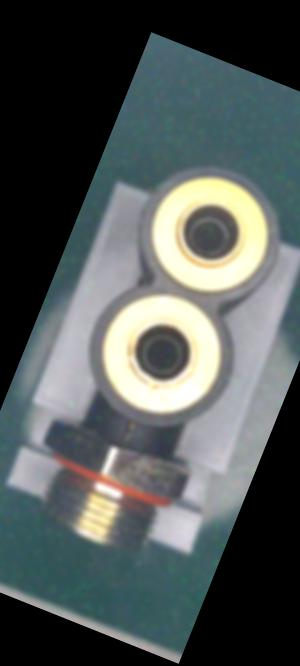craze: (111, 413, 140, 455)
